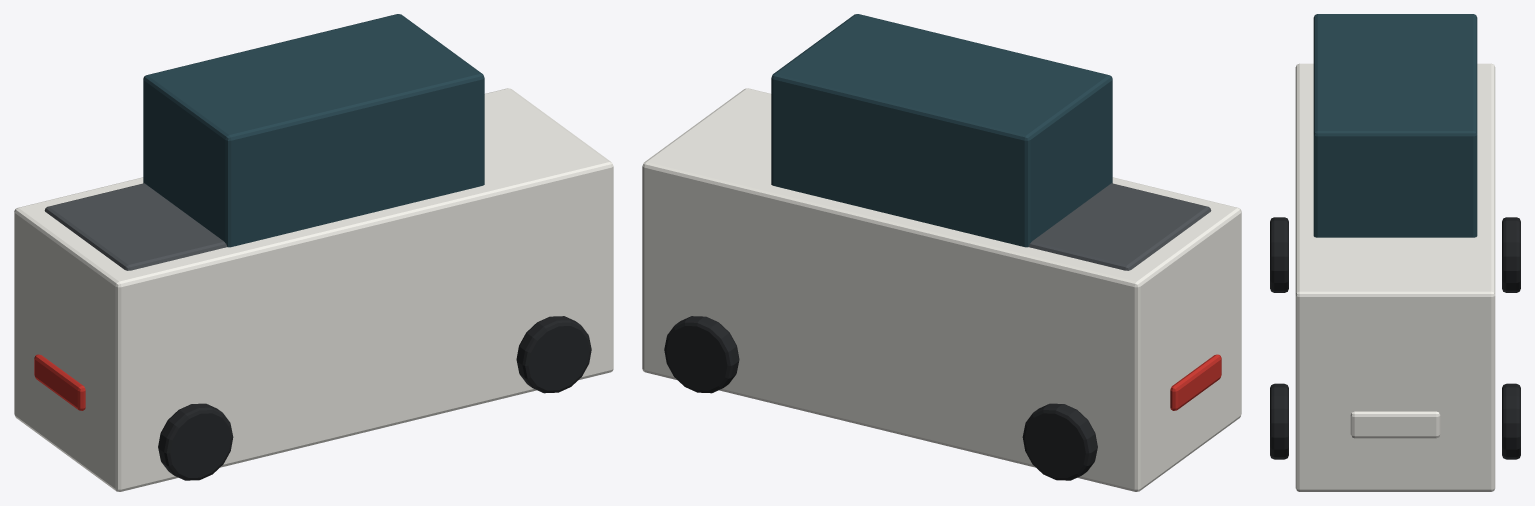
Rendered from Vehicle_003.glb.
3 renders of one model, left to right at view 1: azimuth 30°, elevation 25°; view 2: azimuth 150°, elevation 25°; view 3: azimuth 270°, elevation 25°, orthographic. The views are drawn at different scales.
Parts seen in each view (by area): view 1: Vehicle_003; view 2: Vehicle_003; view 3: Vehicle_003.
Part boxes in pixels (bbox=[...]): Vehicle_003: bbox=[14, 14, 613, 491]; Vehicle_003: bbox=[642, 14, 1241, 491]; Vehicle_003: bbox=[1270, 14, 1520, 491].
Bounding box in the file's own units: 5.38 × 3.2 × 2.38.
